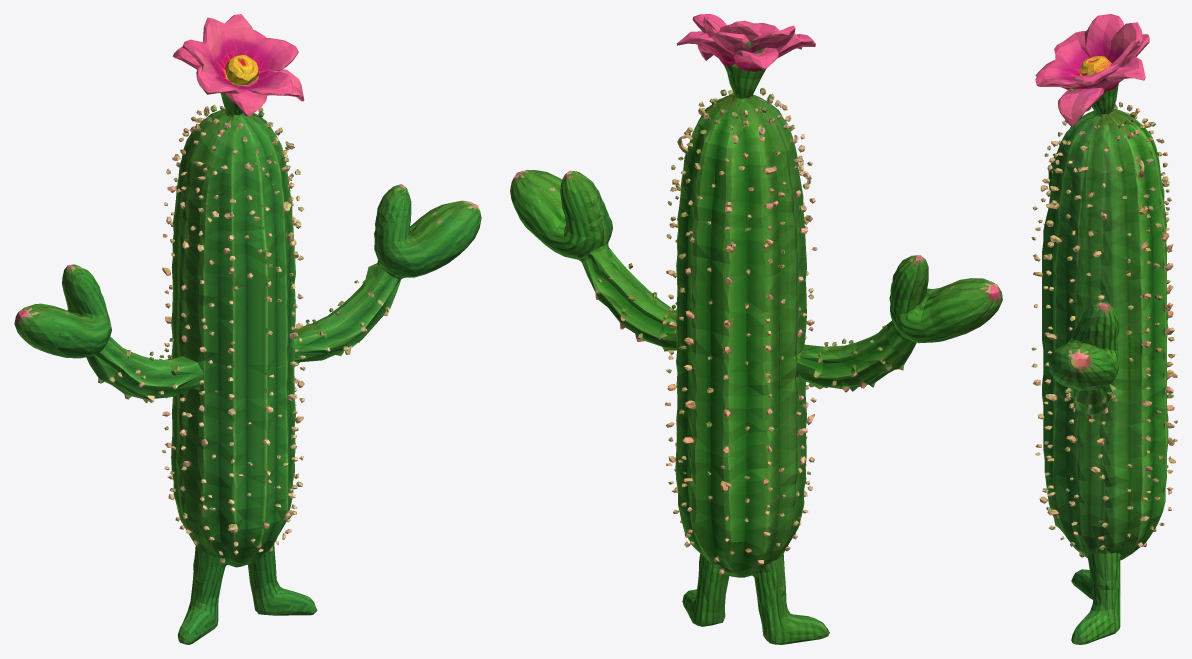
File: sunset-cactus.glb
3 renders of one model, left to right at view 1: azimuth 30°, elevation 25°; view 2: azimuth 150°, elevation 25°; view 3: azimuth 270°, elevation 25°, orthographic. The views are drawn at different scales.
Bounding box in the file's own units: 2.45 × 3 × 0.6776.
1 material, 1 textured.
